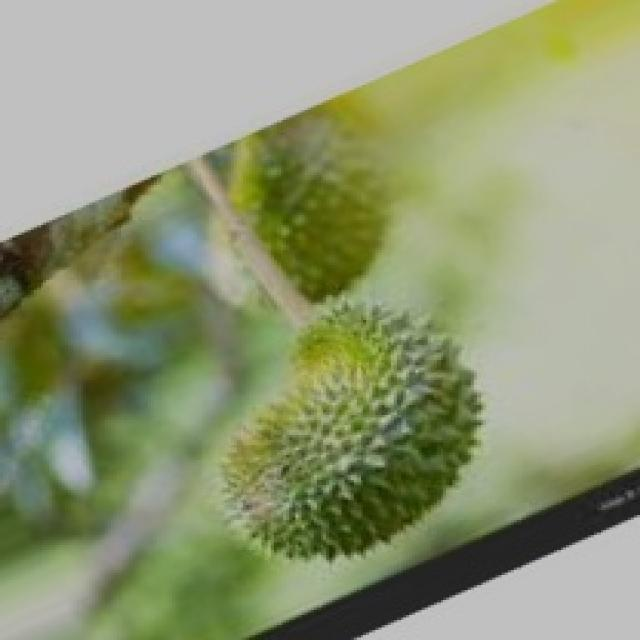fruit: (167, 248, 576, 632)
